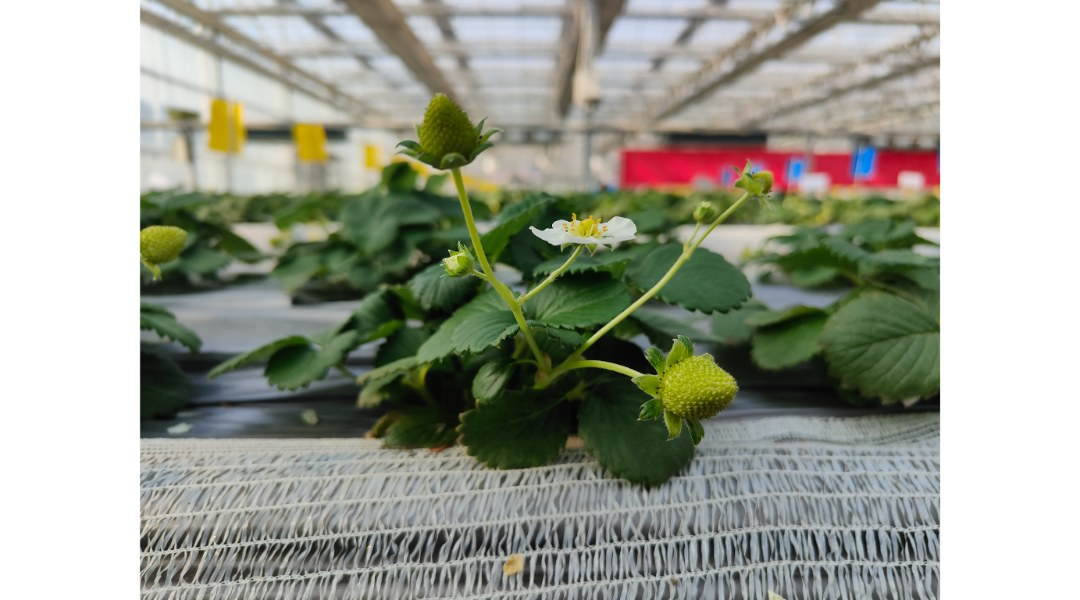berry: (642, 327, 734, 444), (398, 85, 493, 179), (733, 160, 778, 205)
flower: (520, 192, 641, 269)
strain: (573, 263, 679, 363), (484, 285, 545, 364), (452, 170, 496, 271), (696, 187, 745, 251), (524, 255, 572, 313), (585, 353, 632, 382)
